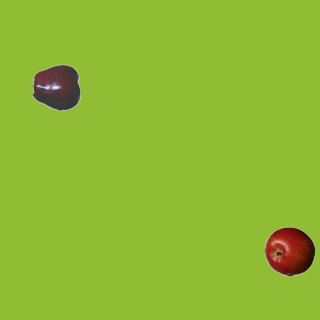Apple Braeburn: (264, 226, 314, 276)
Apple Red Delicious: (32, 62, 82, 112)
